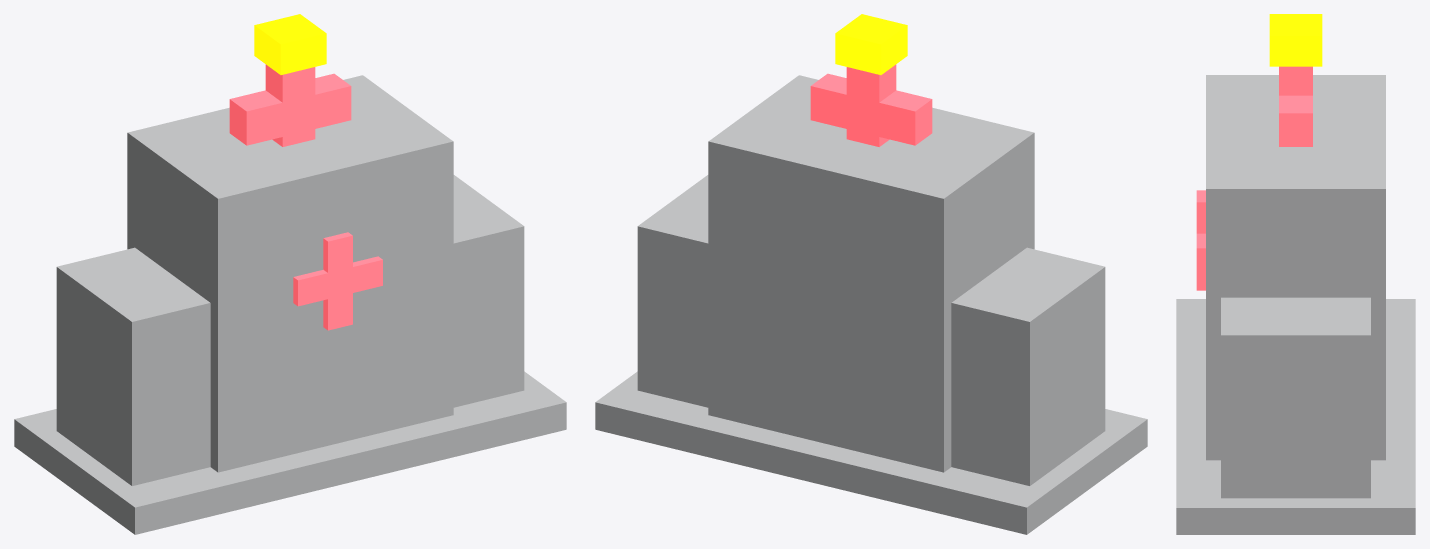
Rendered from rs_rujukan.glb.
3 views of the same model, side by side, from view 1: azimuth 30°, elevation 25°; view 2: azimuth 150°, elevation 25°; view 3: azimuth 270°, elevation 25° (orthographic).
Visible parts, largest first — view 1: Hospital3D; view 2: Hospital3D; view 3: Hospital3D.
Boxes of the visible parts, x1,y1,x2,y2 form: Hospital3D: (14, 14, 566, 534); Hospital3D: (595, 14, 1147, 534); Hospital3D: (1176, 14, 1415, 534).
Bounding box in the file's own units: 6.6 × 5.97 × 3.2.
